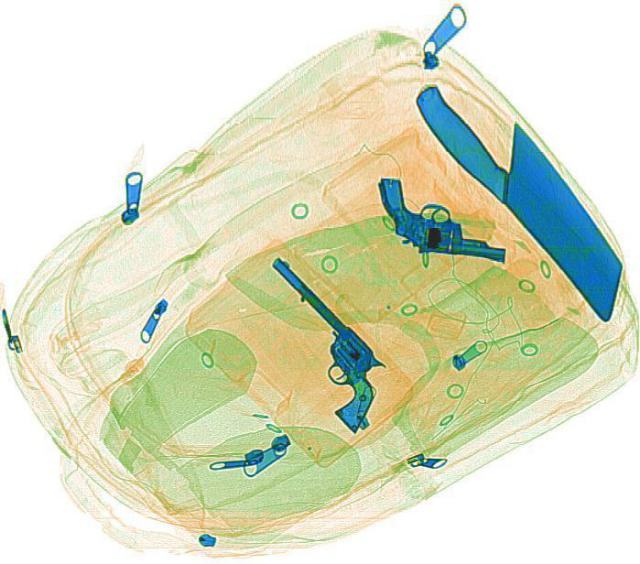Gun: (216, 255, 416, 431), (368, 175, 514, 257)
Knife: (406, 71, 638, 307)
